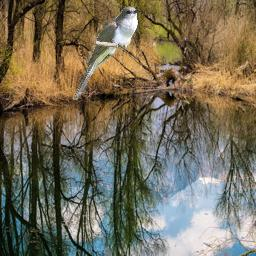Cuckoo: (72, 6, 141, 100)
